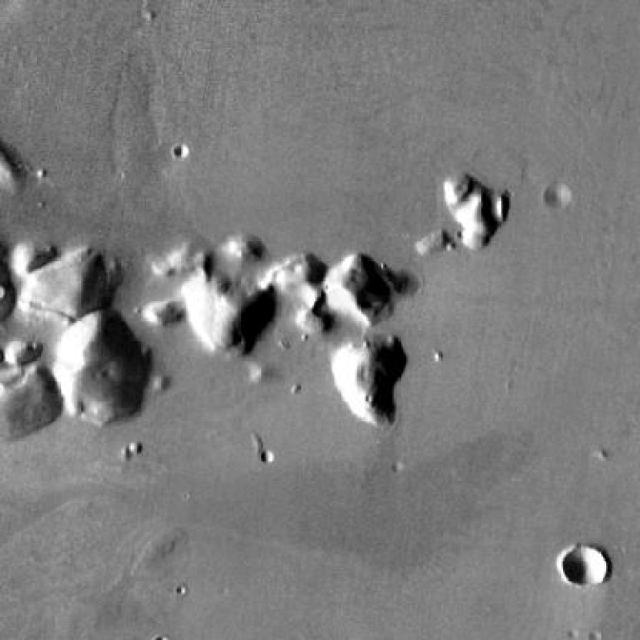crater: (566, 548, 606, 586), (547, 180, 576, 206)
